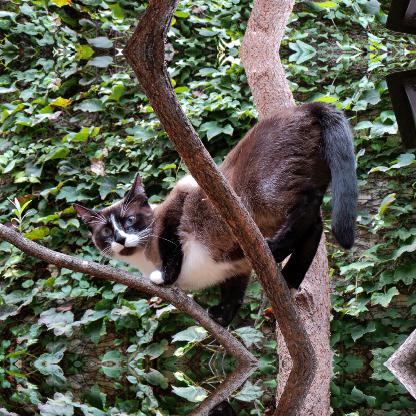Cat: (71, 100, 359, 326)
